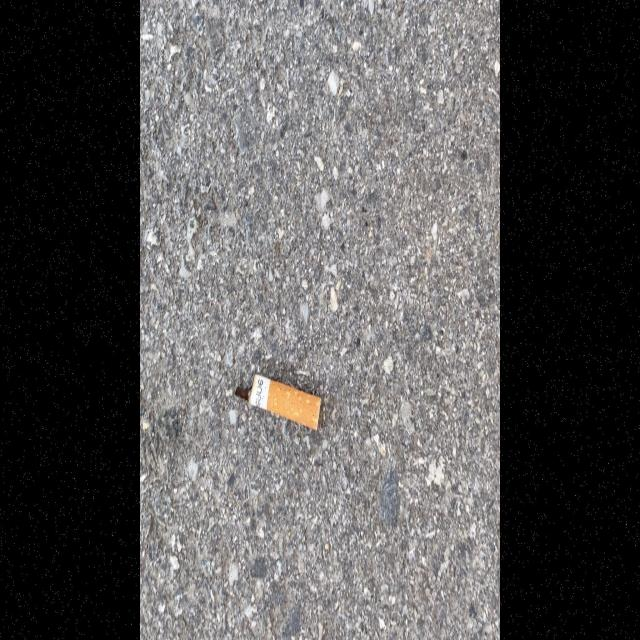other waste: (234, 373, 322, 431)
